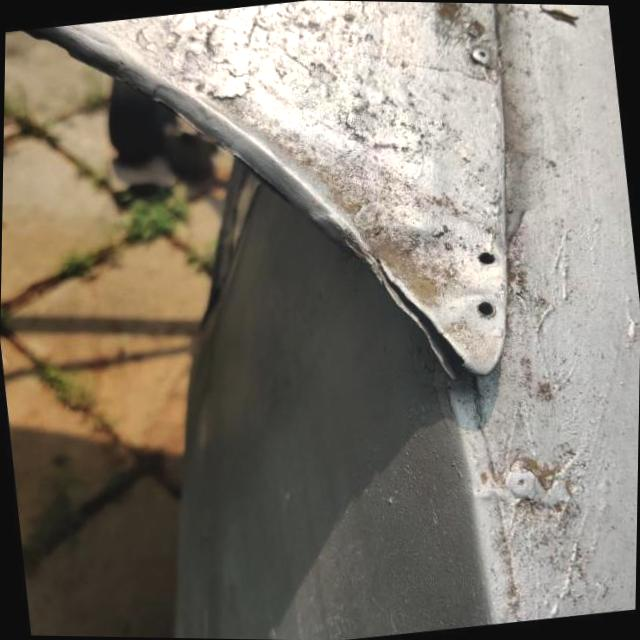Missing Fastener: (464, 292, 502, 324), (468, 242, 504, 270)
